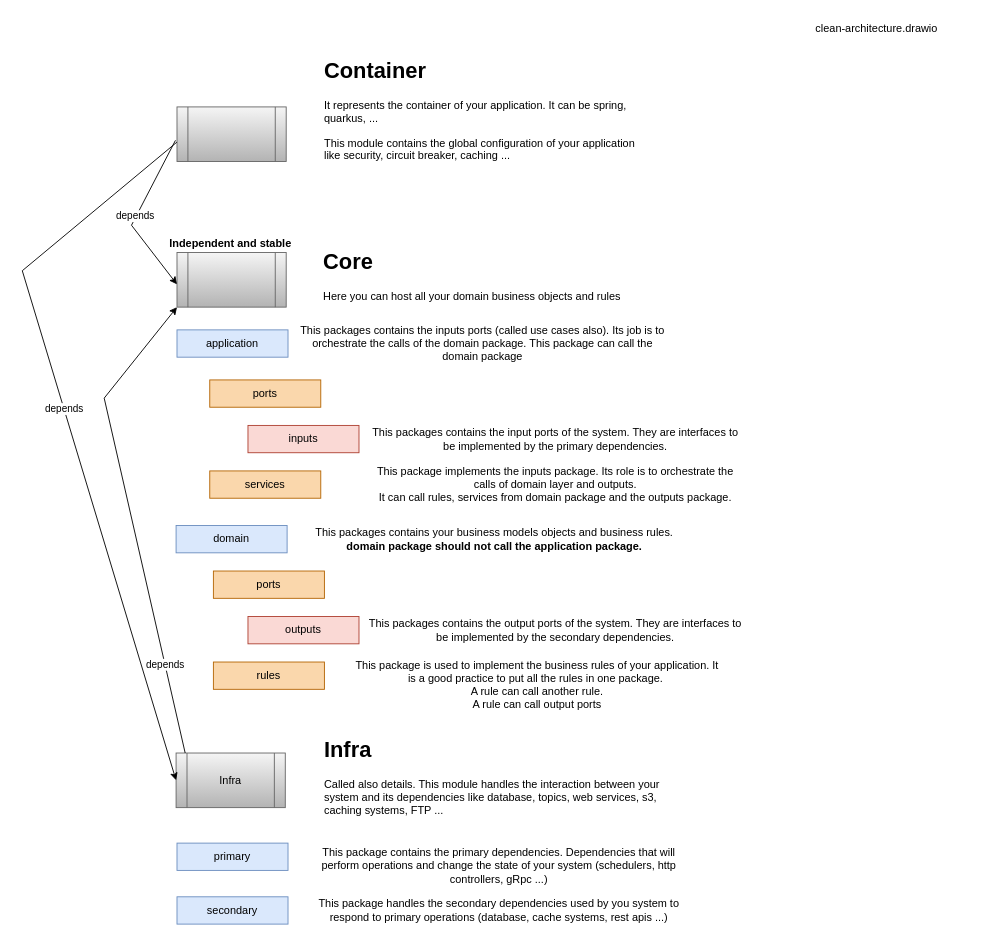
Some shapes in this 985 by 940 pixel diagram are drawn without their labels. Here are the shapes that lost their labels. From the top down, the box of each, then its label:
(176, 106, 286, 162): Container
(176, 252, 286, 307): Business
